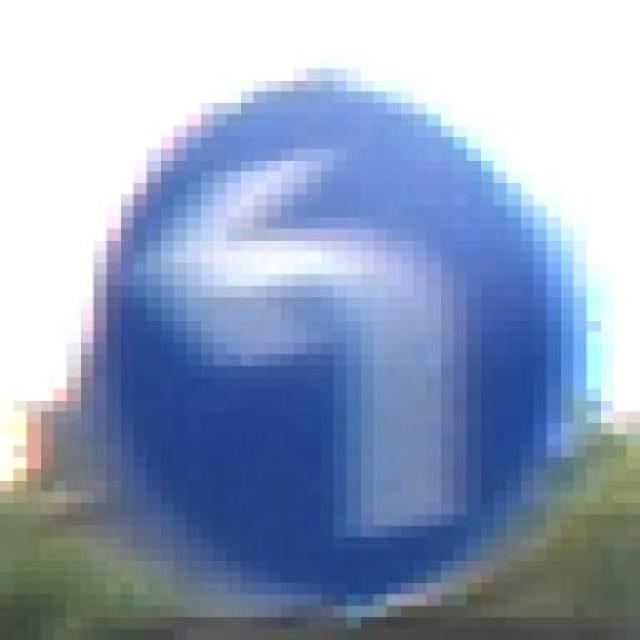Turn left ahead: (79, 68, 587, 618)
